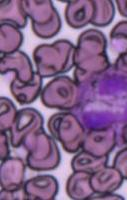E: (70, 66, 126, 130)
